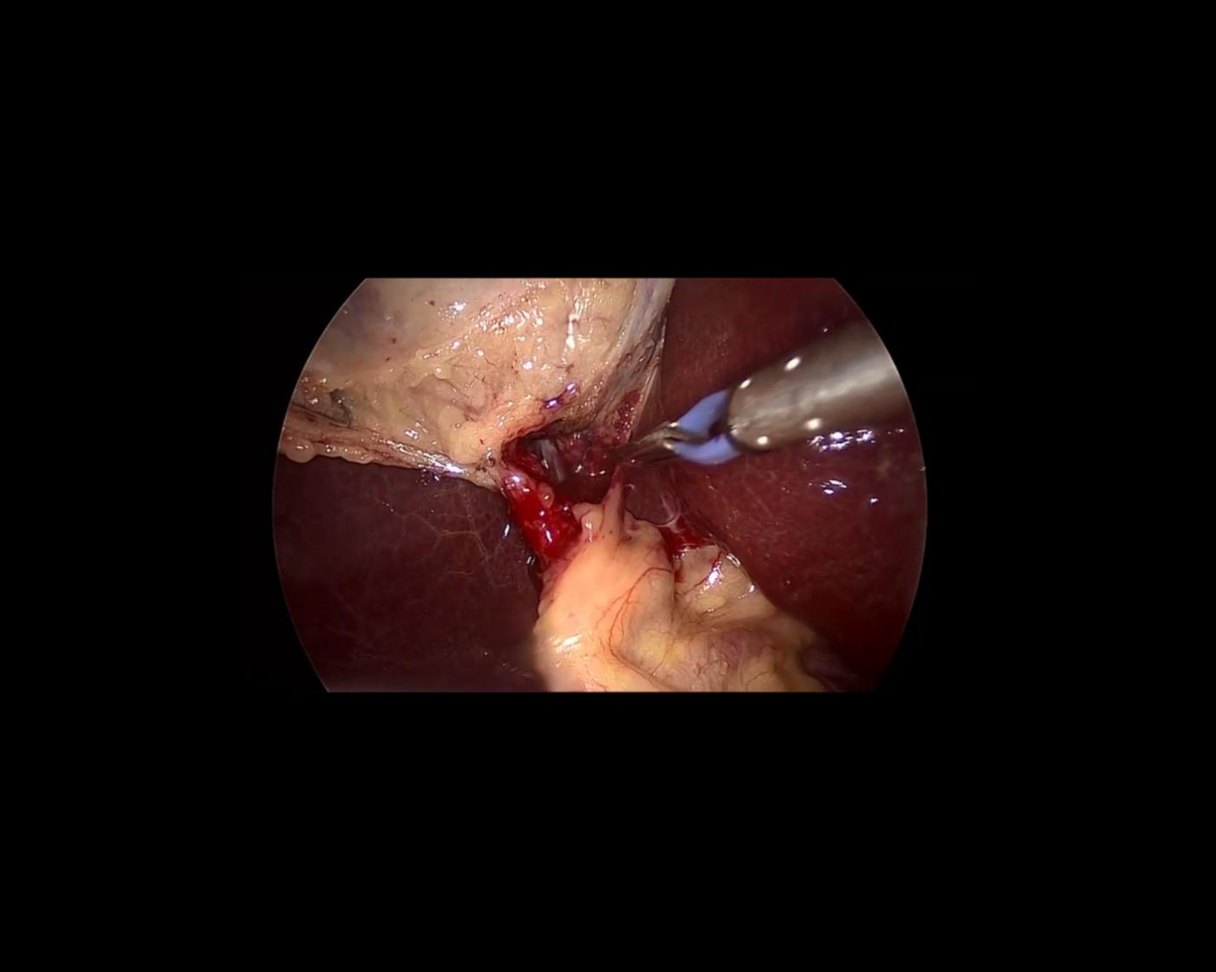Allis: (607, 315, 914, 541)
Gallbladder: (277, 279, 677, 478)
Liver: (587, 240, 982, 691), (272, 445, 546, 691)
